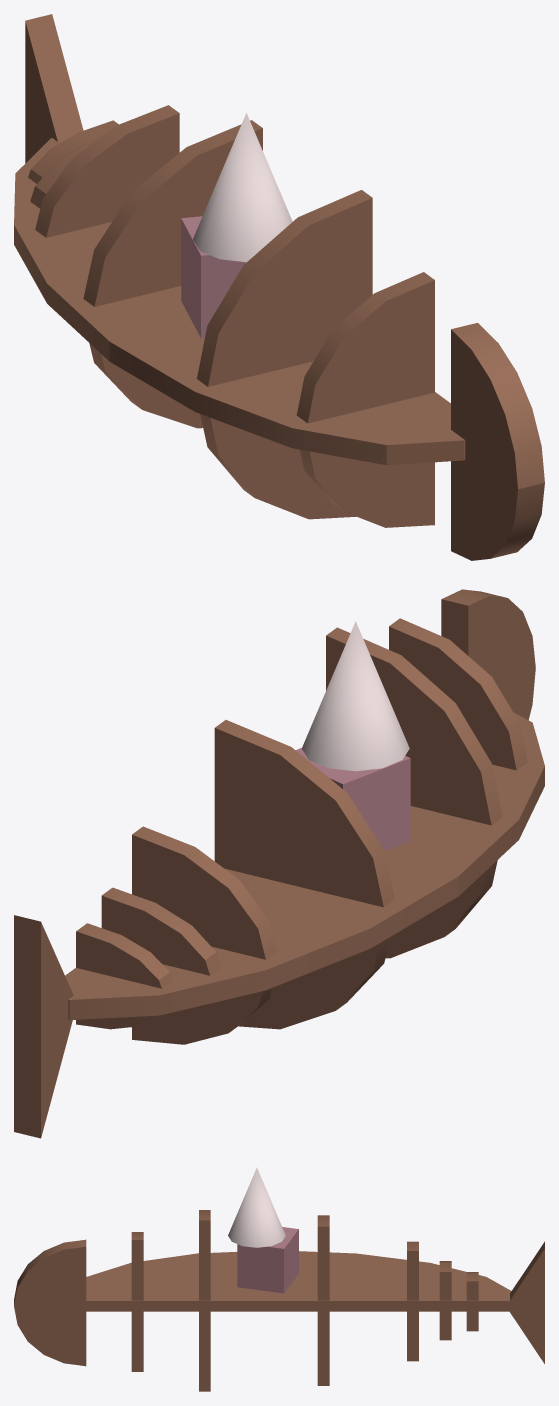
Rendered from Furn4_bookcase_right_color2.fbx.
3 views of the same model, one above another, from view 1: azimuth 30°, elevation 25°; view 2: azimuth 150°, elevation 25°; view 3: azimuth 270°, elevation 25° (orthographic). The views are drawn at different scales.
Parts seen in each view (by area): view 1: Куб.263; view 2: Куб.263; view 3: Куб.263.
Part boxes in pixels (x1,y1,x2,y2): Куб.263: (14,14,544,560); Куб.263: (14,589,544,1138); Куб.263: (14,1167,544,1391).
Bounding box in the file's own units: 54.56 × 103 × 242.
